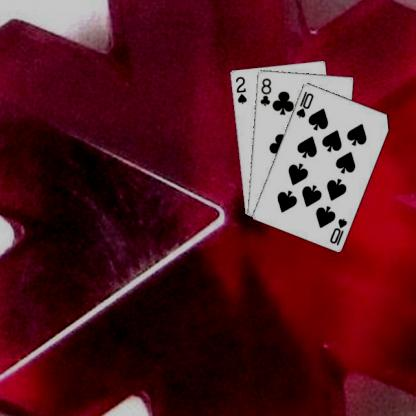10S: (293, 88, 315, 119), (327, 215, 348, 246)
2S: (232, 74, 247, 105)
8C: (257, 75, 272, 107)
